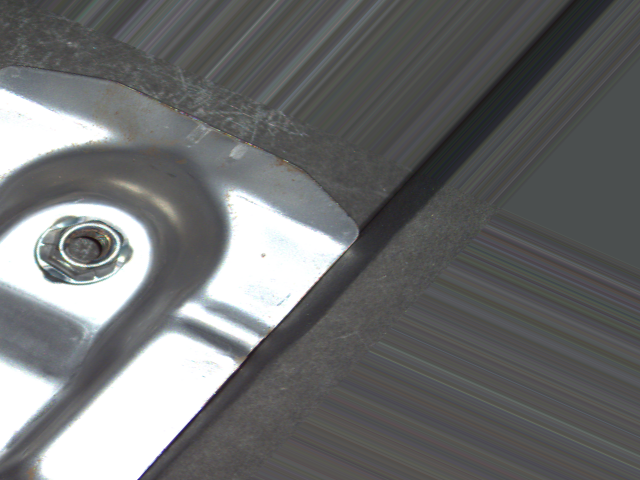good: (30, 211, 138, 289)
